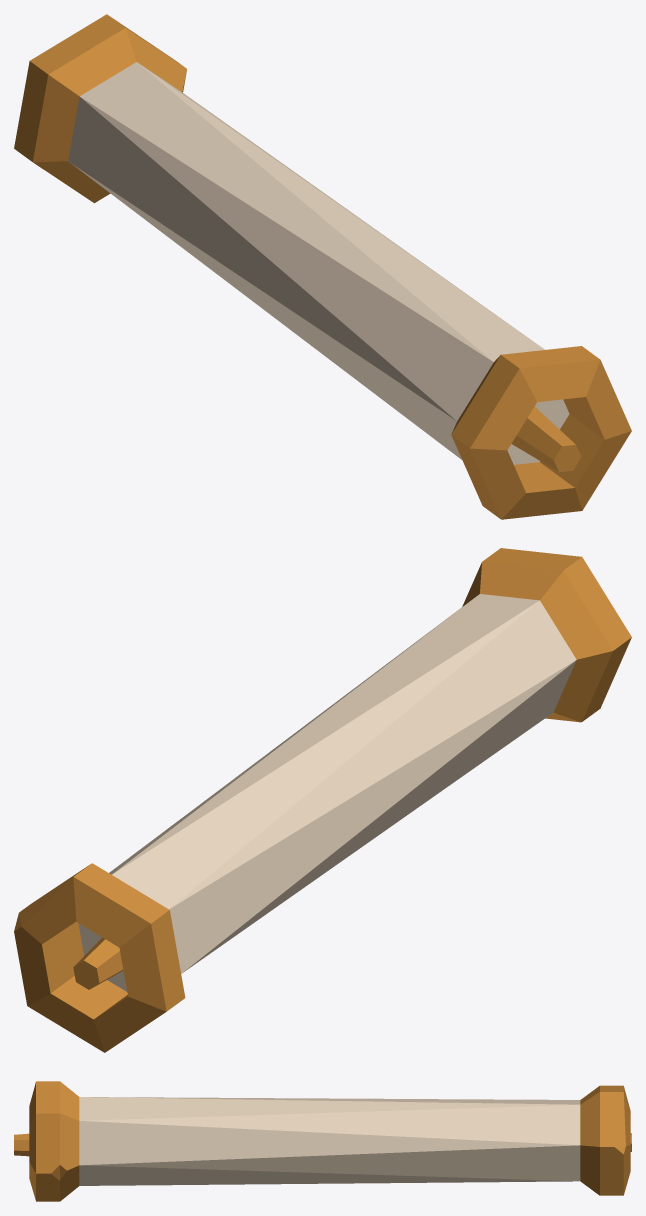
The model's file is Scroll_2 Asia.fbx.
The picture shows the model from 3 angles, top to bottom: view 1: azimuth 30°, elevation 25°; view 2: azimuth 150°, elevation 25°; view 3: azimuth 270°, elevation 25°; orthographic projection. The views are drawn at different scales.
Parts seen in each view (by area): view 1: Scroll_2; view 2: Scroll_2; view 3: Scroll_2.
Boxes of the visible parts, left/top/right/bottom form: Scroll_2: left=14, top=14, right=631, bottom=519; Scroll_2: left=14, top=548, right=631, bottom=1052; Scroll_2: left=14, top=1081, right=631, bottom=1201.
Bounding box in the file's own units: 0.0549 × 0.0543 × 0.2835.
